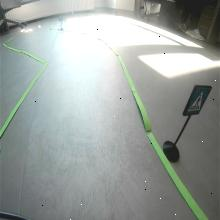crosswalk: (184, 84, 211, 117)
